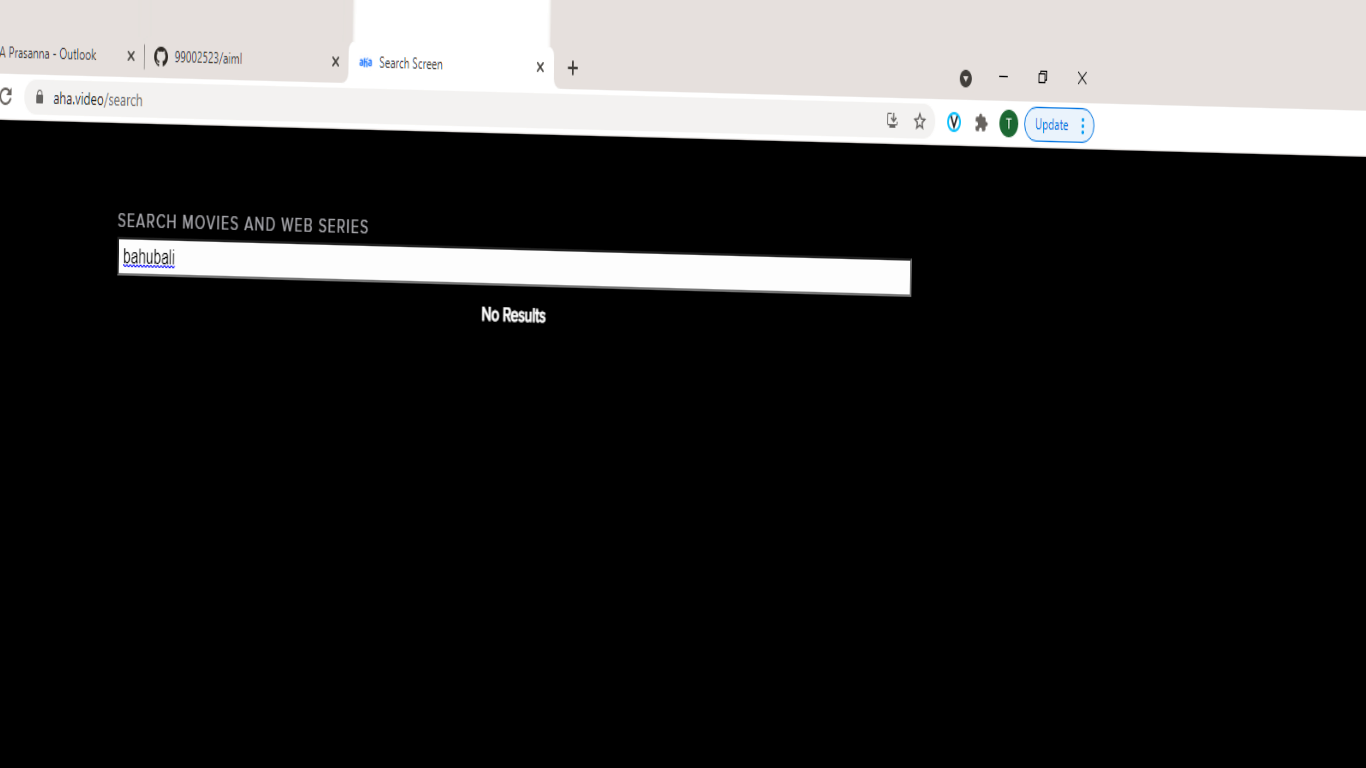noresultsfound: (452, 294, 601, 357)
searchtextbox: (105, 208, 935, 303)
